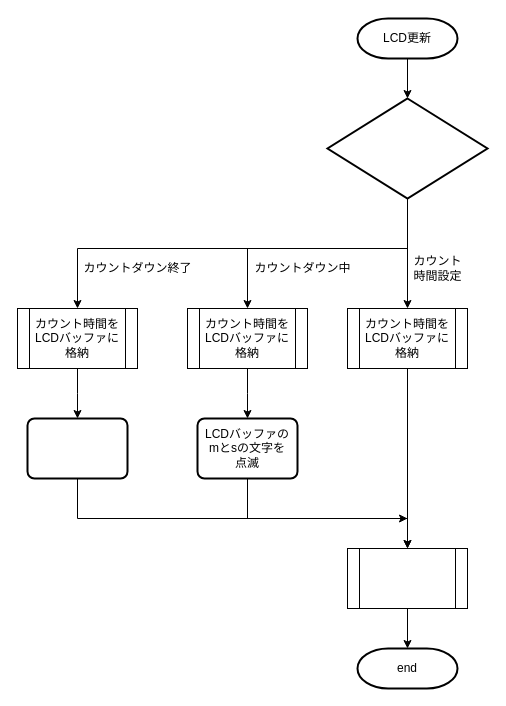
Image size: 506x706. Some labels were removed from this diagram. Here are the shapes that lost their labels. From the top down, the centre of each, then its label:
At point (407, 148): "キッチンタイマー状態 は = ?".
At point (77, 448): "LCDバッファの 文字を点滅".
At point (407, 578): "LCDバッファの値を LCDへ表示".
